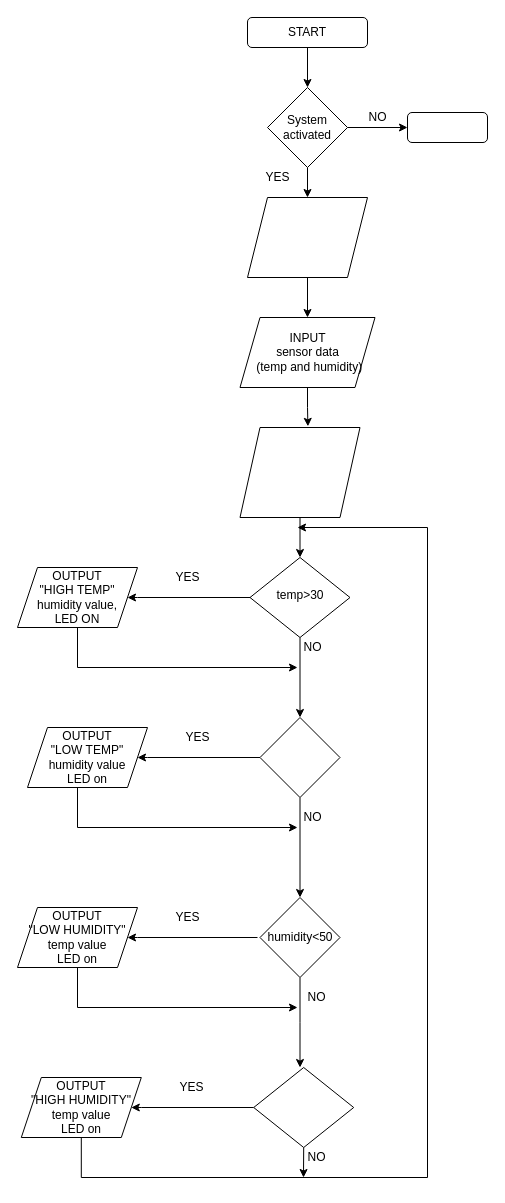
The diagram is 505 pixels wide and 1203 high, and some of its shapes have lost their labels. Here are the shapes that lost their labels. From the top down, the centre of each, then its label:
the point at 447,127: stop
the point at 307,237: OUTPUT LCD "Thermometer"
the point at 299,472: OUTPUT LCD temperature and humidity values
the point at 299,757: Temp<20
the point at 303,1107: humidity>90
